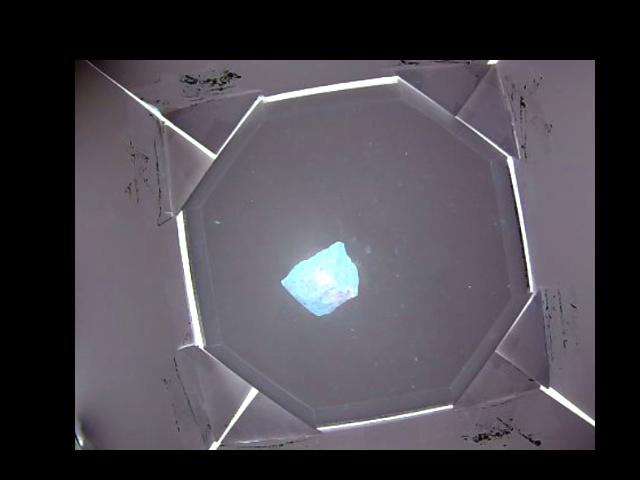Brisk: (282, 241, 356, 315)
